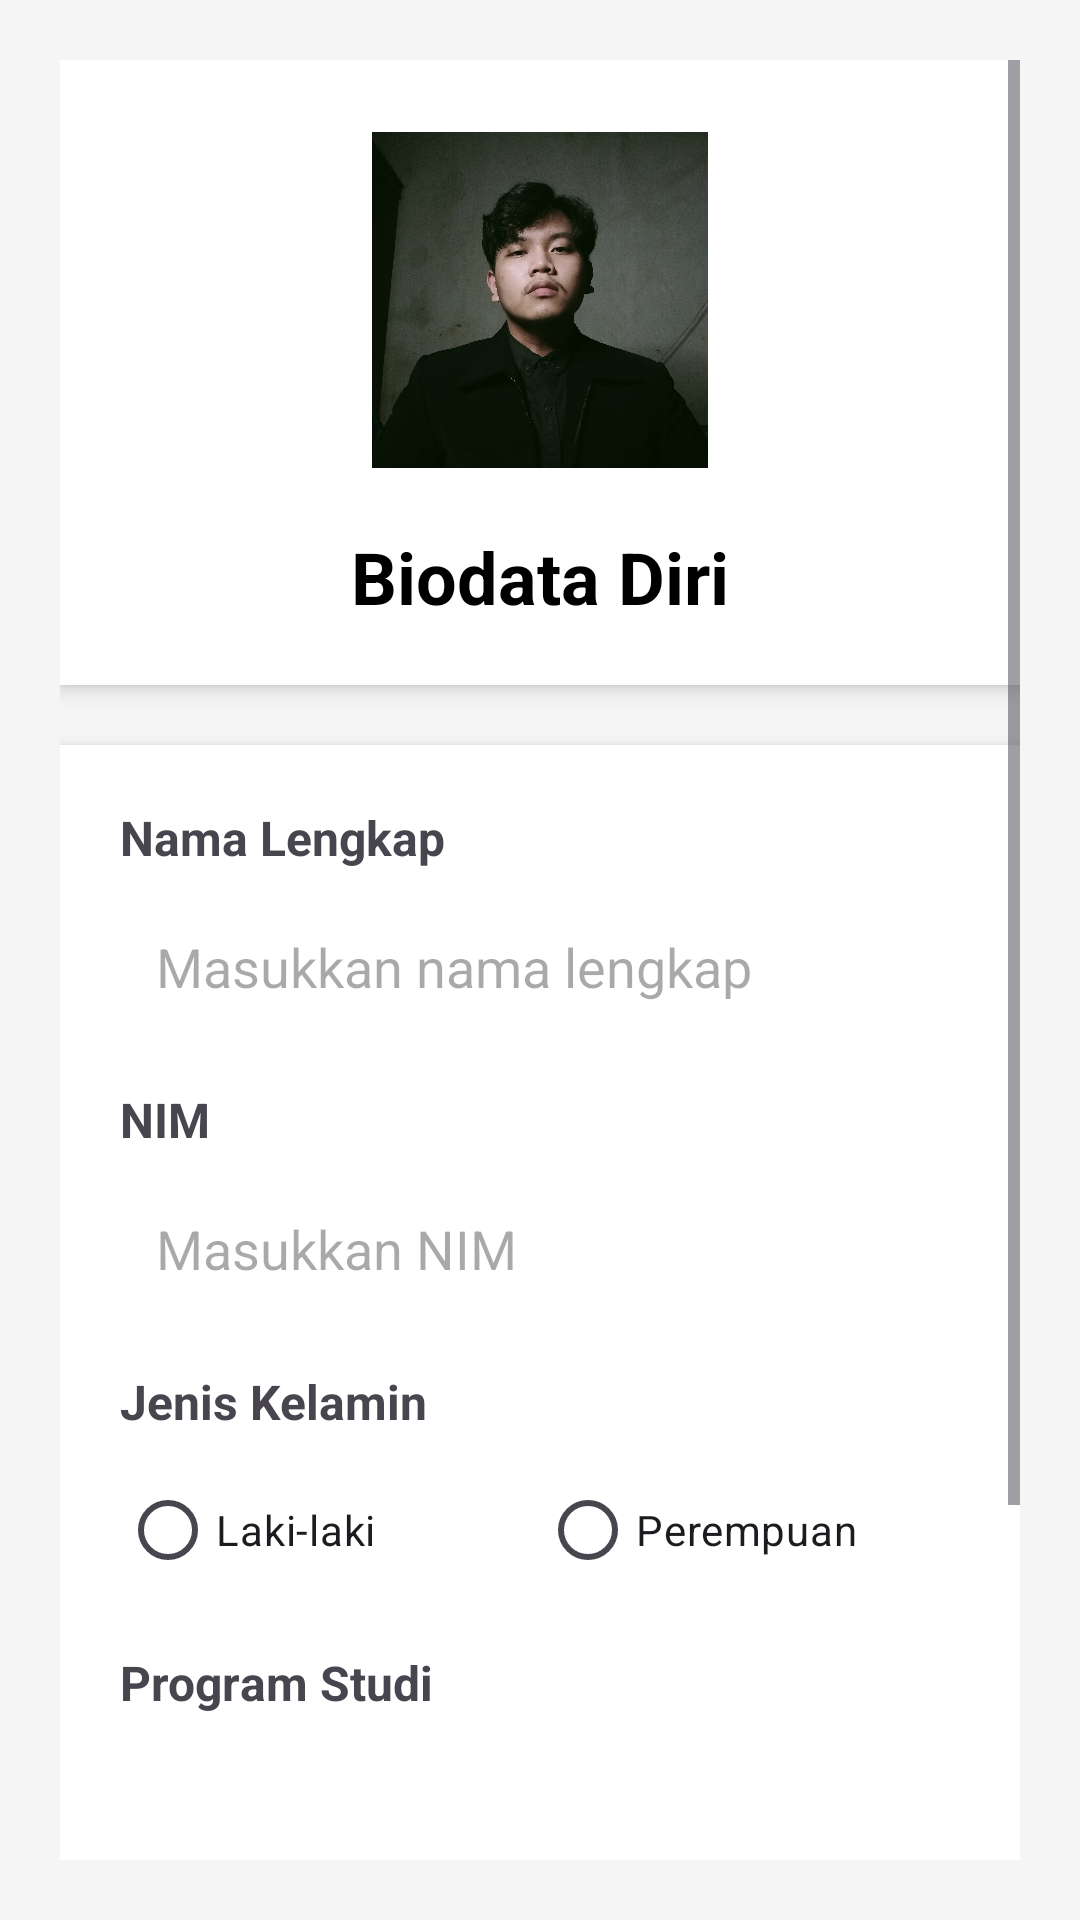

Named icons in this screenshot (1080*1920) and their bounding boxes, BBox(x1, y1, x2, y2):
foto profil: BBox(372, 132, 708, 468)
